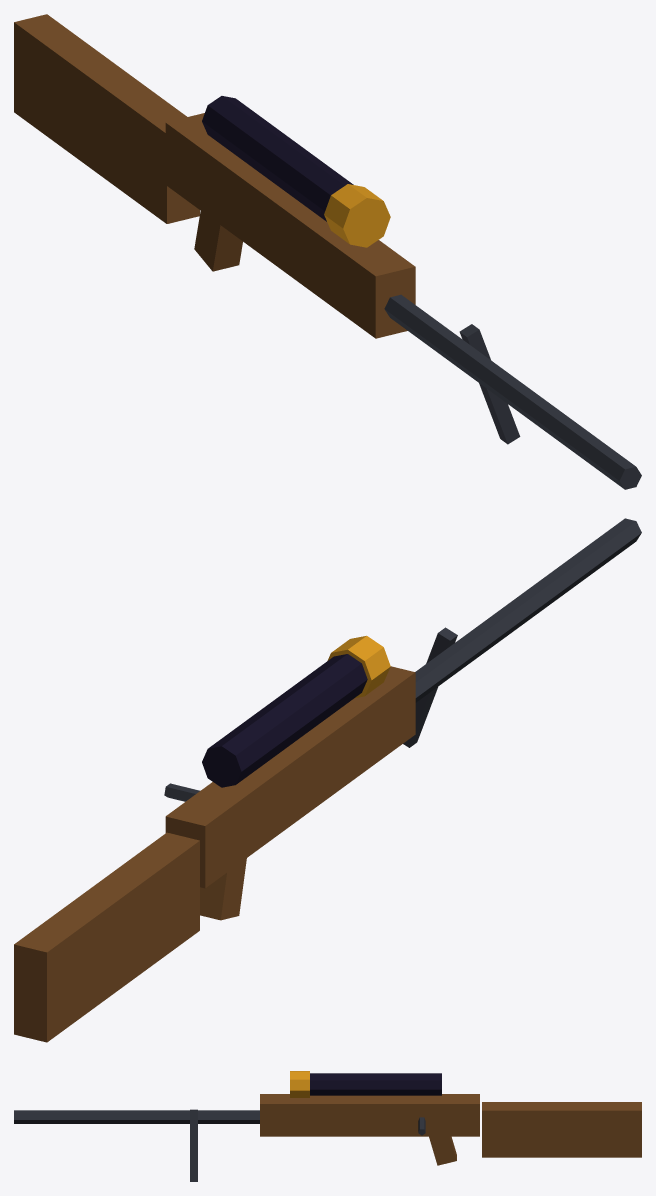
The model's file is longwatch.glb.
3 views of the same model, one above another, from view 1: azimuth 30°, elevation 25°; view 2: azimuth 150°, elevation 25°; view 3: azimuth 270°, elevation 25° (orthographic). The views are drawn at different scales.
Parts seen in each view (by area): view 1: model; view 2: model; view 3: model.
Part boxes in pixels (<box>): model: <box>14,14,641,489</box>; model: <box>14,518,641,1042</box>; model: <box>14,1071,641,1181</box>.
Bounding box in the file's own units: 0.146 × 0.271 × 1.57.
